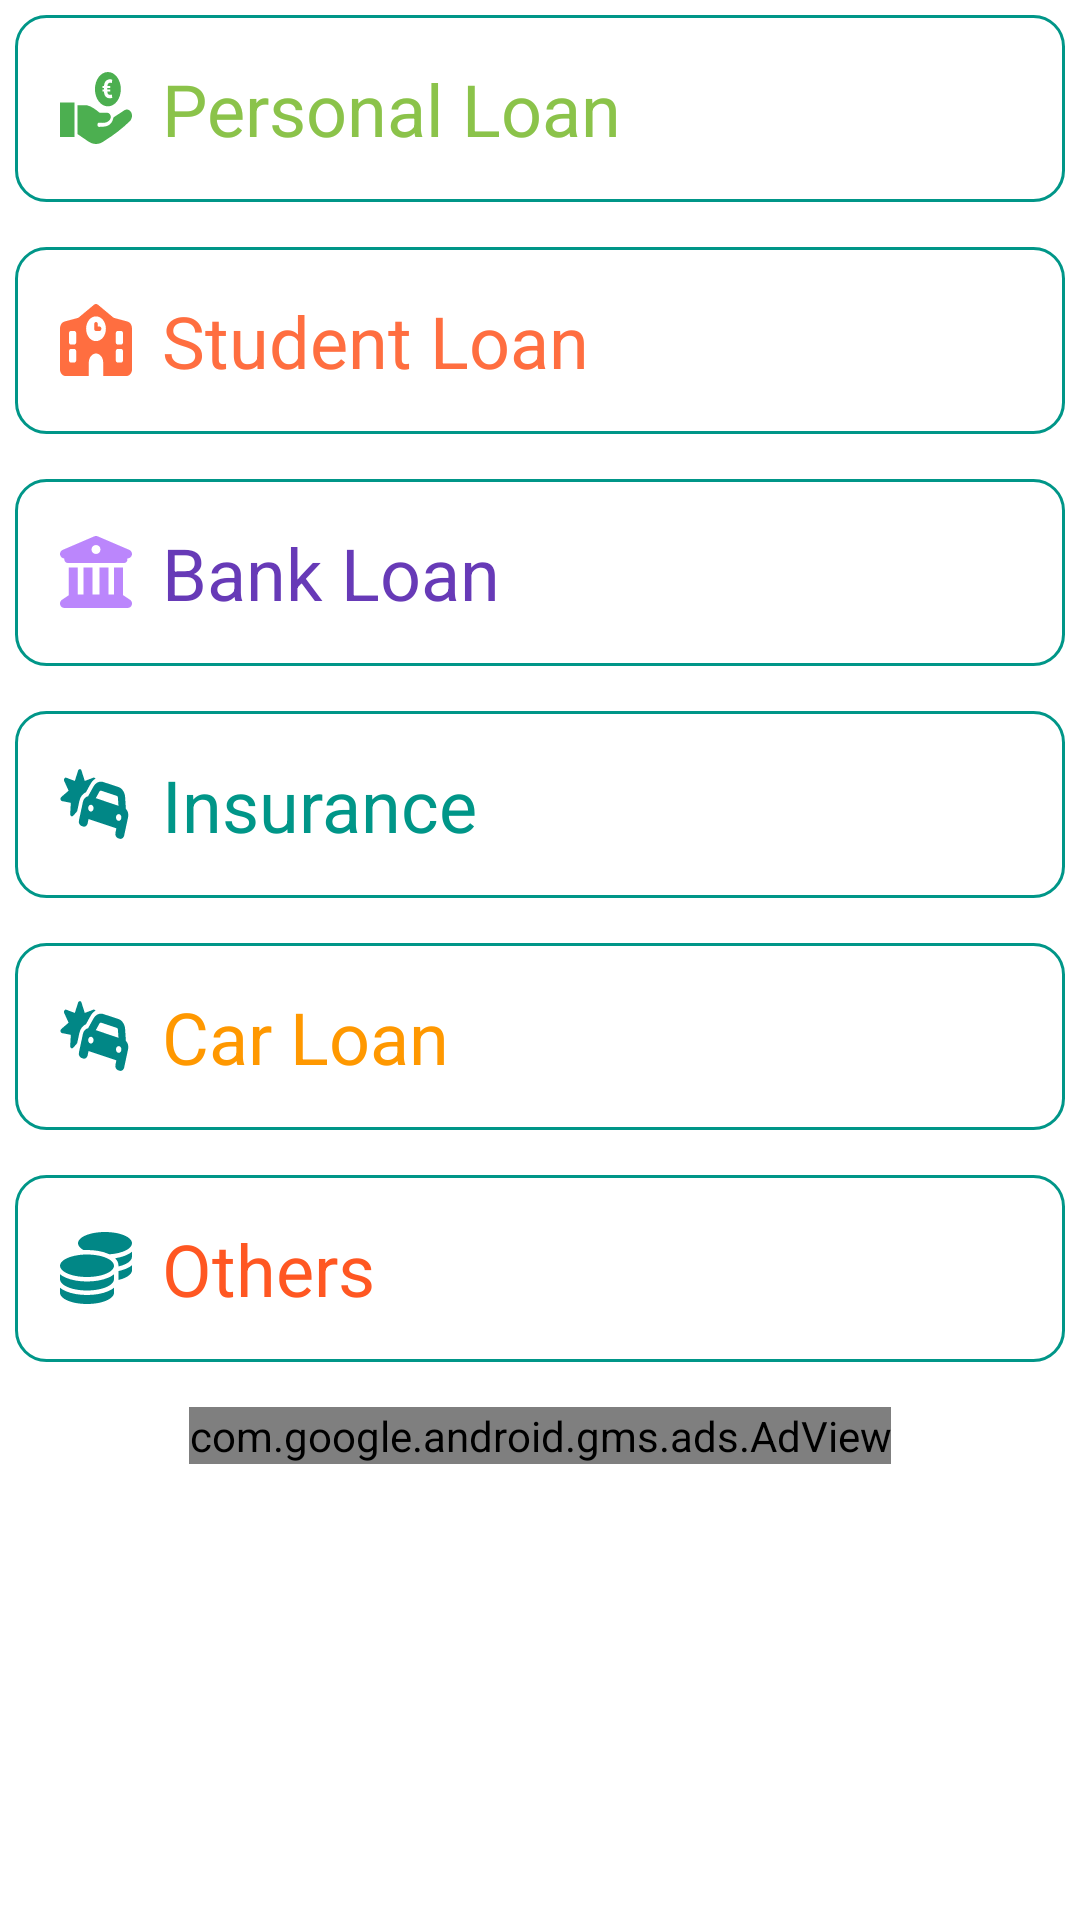

Icons on this 1080x1920 Android screen, each with the point to tap as [x,y]:
building columns: [96,572]
car burst: [94,804], [94,1036]
coins: [96,1268]
hand money euro coin: [96,108]
school: [96,340]
